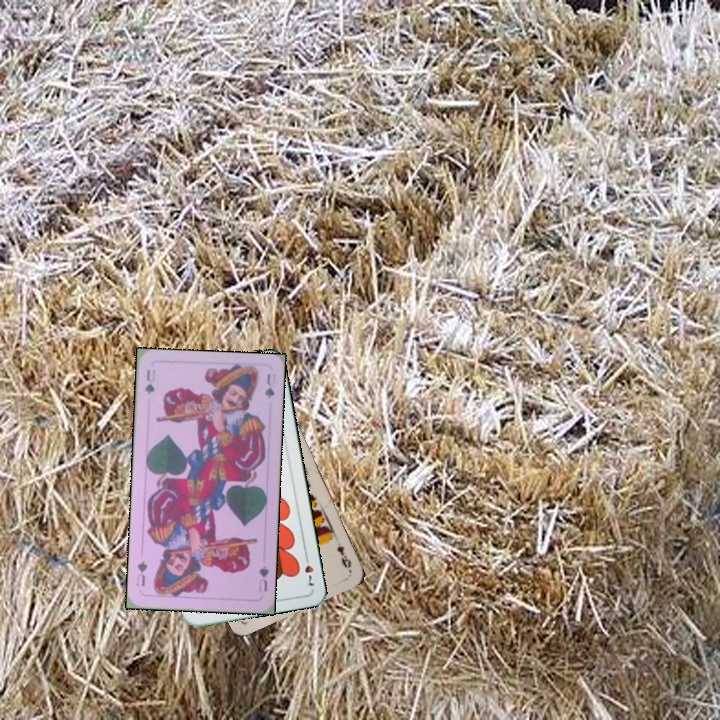E9: (333, 538, 354, 573)
GU: (141, 366, 158, 397), (255, 562, 271, 594)
H7: (301, 550, 316, 588)
